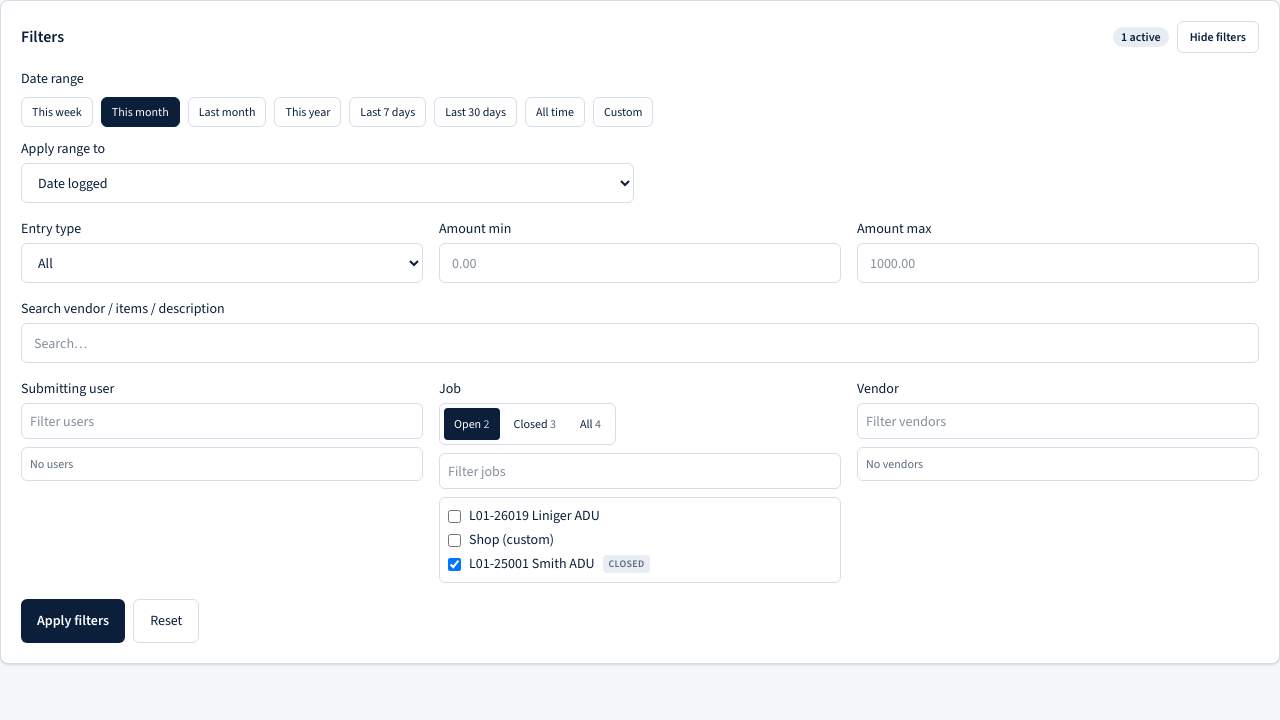
Test: Receipt Log job filter › narrows job options only and keeps checked Closed jobs listed
Click the radio button labelled "All 4". click: (590, 424)
box: x1=570 y1=408 x2=611 y2=440
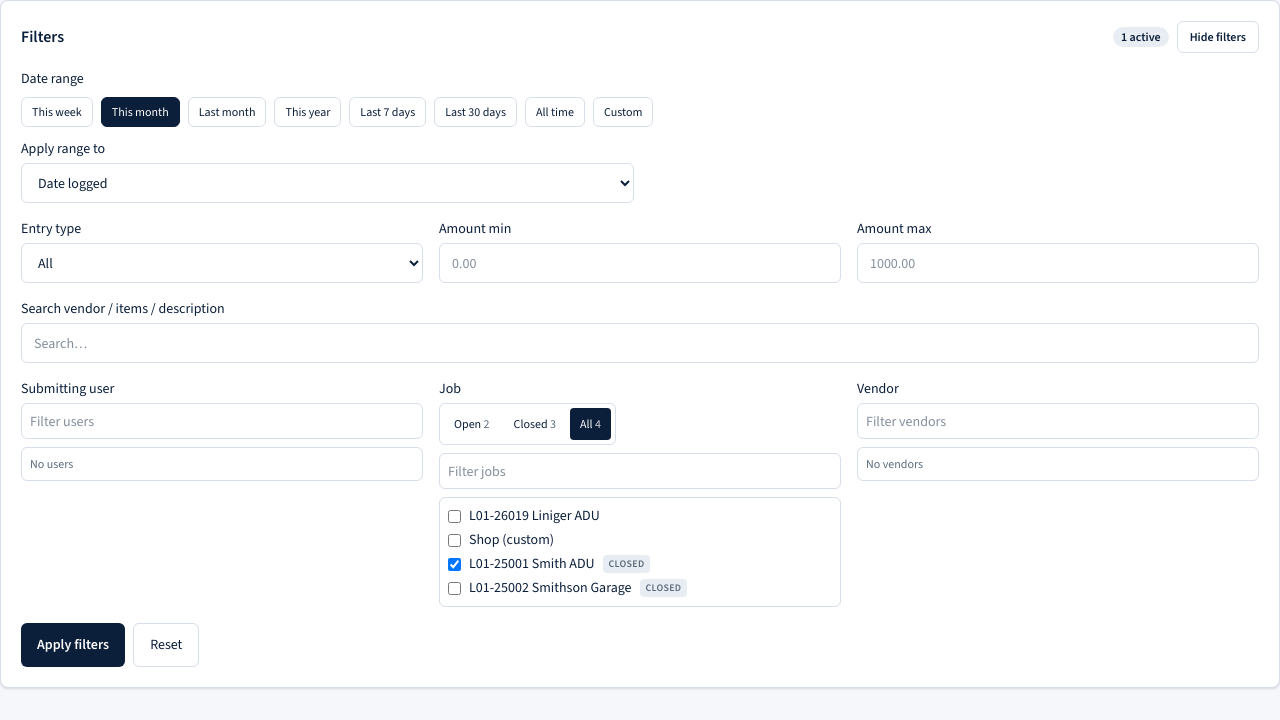
Result: the number of checkboxes is 4 at x1=448 y1=510 x2=461 y2=522; x1=448 y1=534 x2=461 y2=546; x1=448 y1=558 x2=461 y2=570; x1=448 y1=582 x2=461 y2=594
